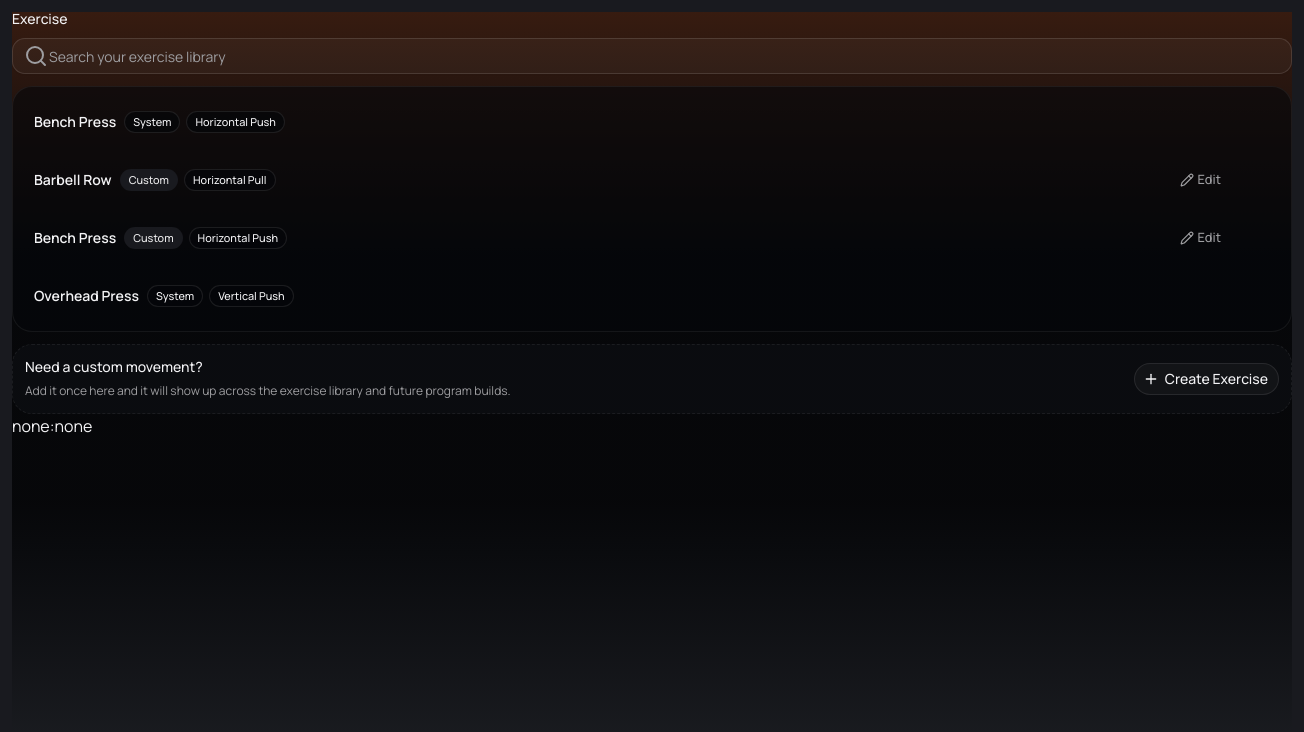
Scenario: ExerciseLibraryField › clears the selected exercise when the selected pill is clicked again
Type "bench" into the field labelled "Exercise" at (652, 56), box [12, 38, 1292, 74]
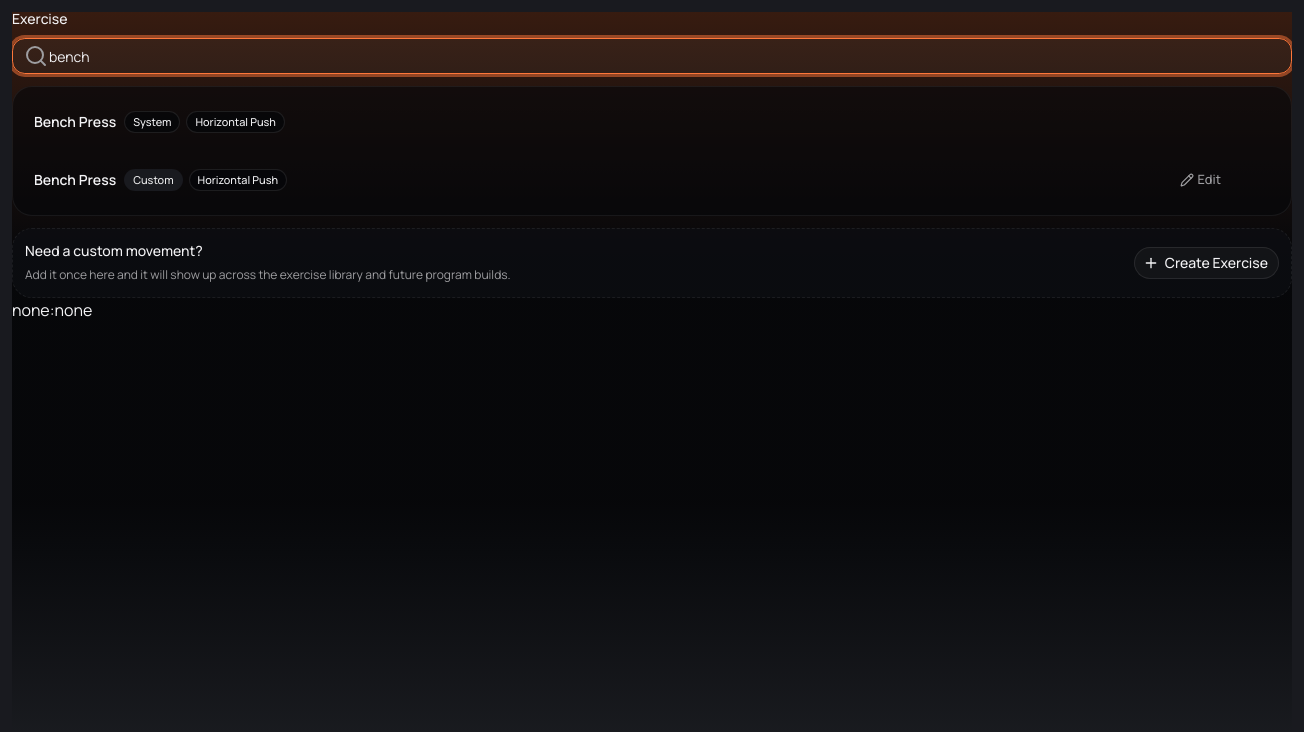
Click the button named "Choose Bench Press" at (652, 122), box [22, 96, 1282, 148]
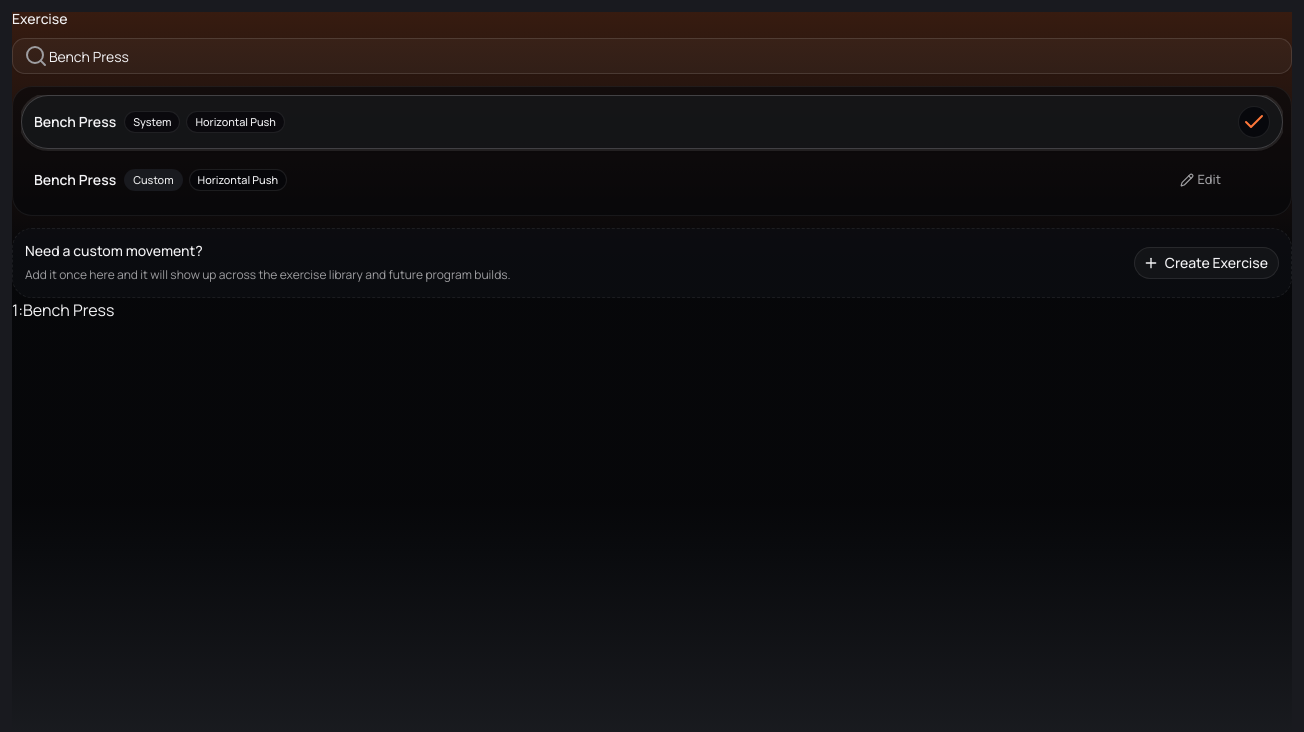
Click the button named "Unselect Bench Press system exercise Horizontal push" at (652, 122), box [22, 96, 1282, 148]
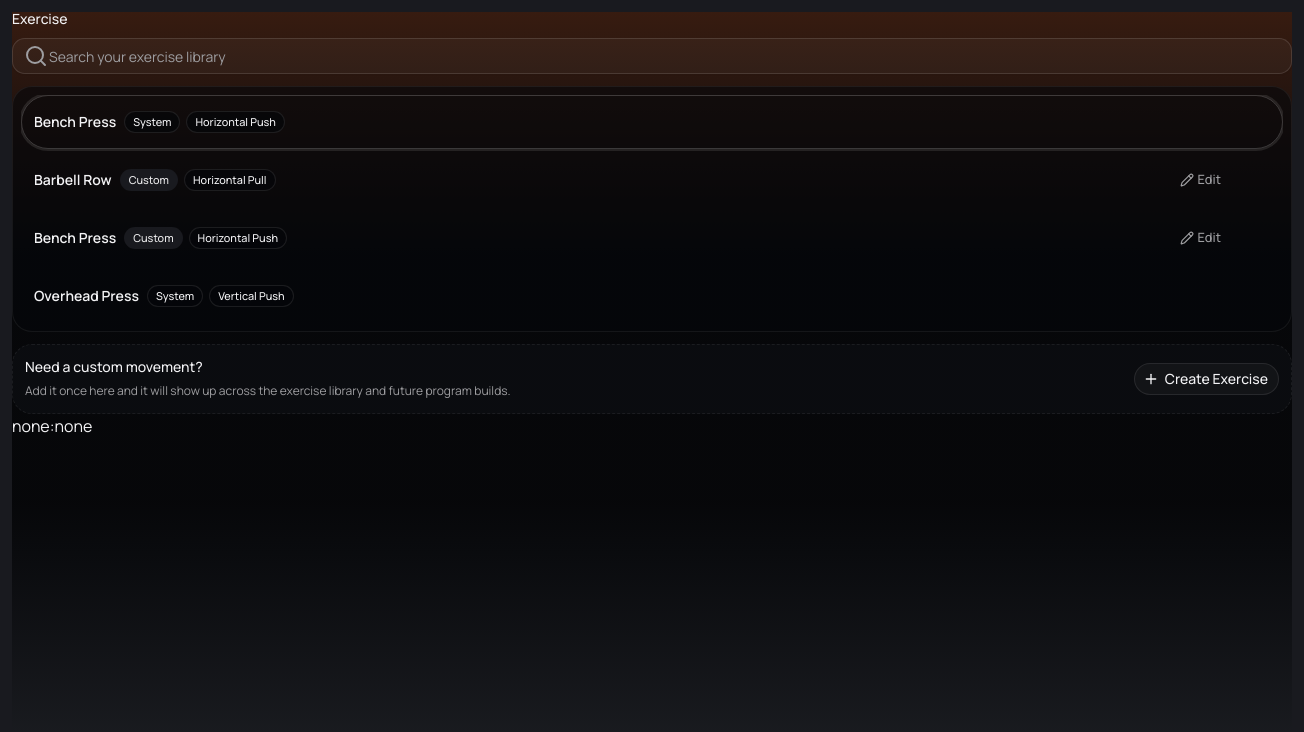
Expected: the field labelled "Exercise" is empty, [12, 38, 1292, 74]
Expected: the text with test id "selection-state" reads "none:none", [12, 415, 92, 437]
